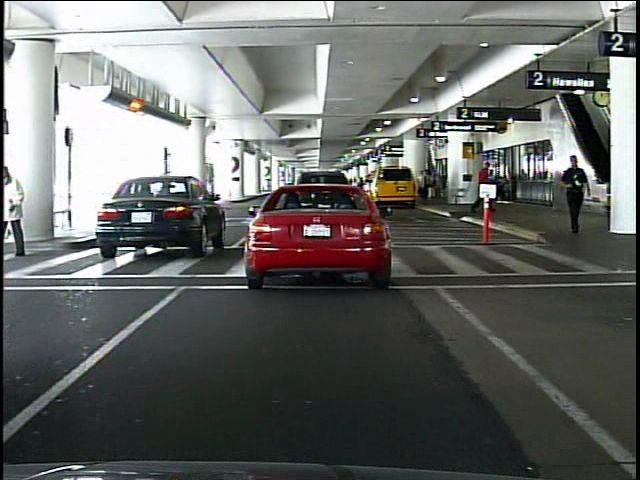person: (5, 167, 33, 258), (560, 151, 588, 236), (473, 161, 497, 216), (417, 166, 430, 202)
